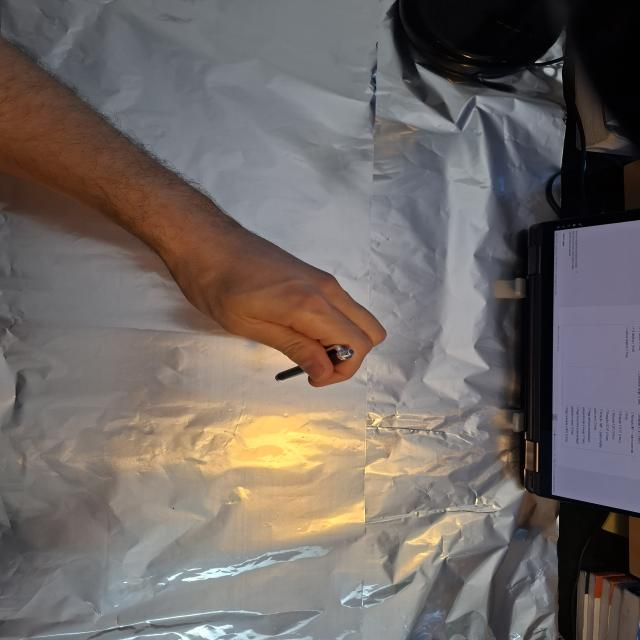glove_off: (159, 226, 390, 389)
